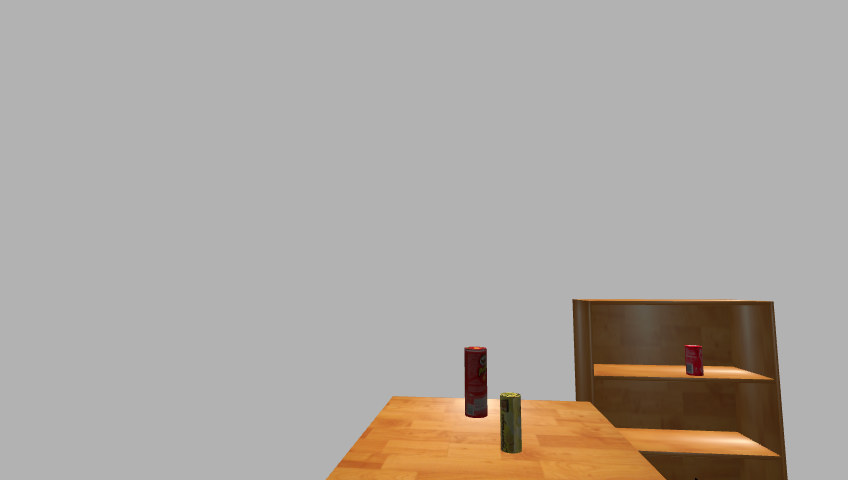biscuits pack: (500, 393, 524, 454)
bookshelf: (566, 297, 792, 479)
coke can: (683, 345, 705, 376)
dinner table: (314, 395, 680, 480)
pringles can: (461, 346, 490, 420)
